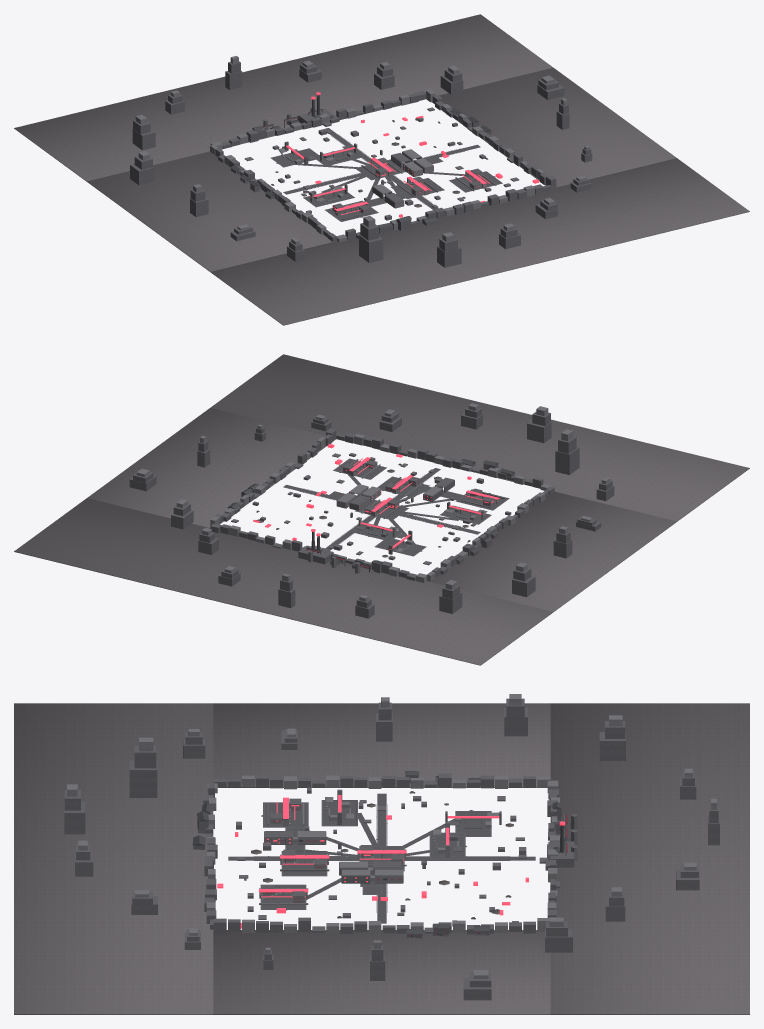
The picture shows the model from 3 angles, top to bottom: view 1: azimuth 30°, elevation 25°; view 2: azimuth 150°, elevation 25°; view 3: azimuth 270°, elevation 25°; orthographic projection. The views are drawn at different scales.
Parts seen in each view (by area): view 1: HB_z06_LOD1_terrain, HB_z06_LOD1_wall_alt, HB_z06_LOD1_wall, HB_z06_LOD1_road, HB_z06_LOD1_obstacle, HB_z06_LOD1_emissive, HB_z06_LOD1_trim; view 2: HB_z06_LOD1_terrain, HB_z06_LOD1_wall_alt, HB_z06_LOD1_wall, HB_z06_LOD1_road, HB_z06_LOD1_obstacle, HB_z06_LOD1_emissive, HB_z06_LOD1_trim; view 3: HB_z06_LOD1_terrain, HB_z06_LOD1_wall_alt, HB_z06_LOD1_wall, HB_z06_LOD1_road, HB_z06_LOD1_emissive, HB_z06_LOD1_obstacle, HB_z06_LOD1_trim.
Boxes of the visible parts, x1=… form: HB_z06_LOD1_terrain: x1=14, y1=14, x2=749, y2=325; HB_z06_LOD1_wall_alt: x1=130, y1=61, x2=592, y2=267; HB_z06_LOD1_wall: x1=135, y1=56, x2=589, y2=244; HB_z06_LOD1_road: x1=272, y1=128, x2=502, y2=221; HB_z06_LOD1_obstacle: x1=244, y1=107, x2=519, y2=220; HB_z06_LOD1_emissive: x1=286, y1=92, x2=539, y2=217; HB_z06_LOD1_trim: x1=230, y1=95, x2=491, y2=227; HB_z06_LOD1_terrain: x1=14, y1=354, x2=749, y2=665; HB_z06_LOD1_wall_alt: x1=129, y1=407, x2=614, y2=618; HB_z06_LOD1_wall: x1=136, y1=403, x2=610, y2=601; HB_z06_LOD1_road: x1=283, y1=459, x2=508, y2=555; HB_z06_LOD1_obstacle: x1=231, y1=453, x2=511, y2=566; HB_z06_LOD1_emissive: x1=253, y1=444, x2=499, y2=549; HB_z06_LOD1_trim: x1=227, y1=459, x2=514, y2=572; HB_z06_LOD1_terrain: x1=14, y1=703, x2=749, y2=1014; HB_z06_LOD1_wall_alt: x1=64, y1=698, x2=719, y2=1000; HB_z06_LOD1_wall: x1=67, y1=694, x2=716, y2=978; HB_z06_LOD1_road: x1=228, y1=793, x2=535, y2=923; HB_z06_LOD1_emissive: x1=217, y1=795, x2=565, y2=928; HB_z06_LOD1_obstacle: x1=236, y1=787, x2=564, y2=926; HB_z06_LOD1_trim: x1=192, y1=771, x2=570, y2=937.
Size of the model in its own units: 628 by 50.77 by 628.
10 materials, 8 textured.
